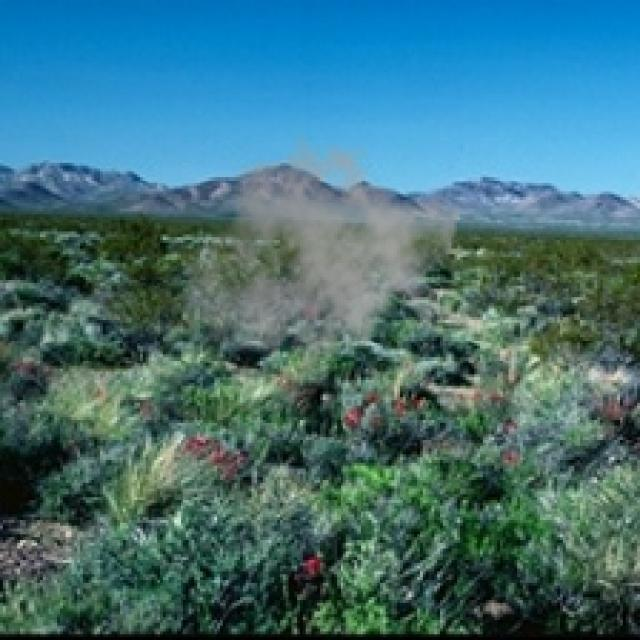Smoke: (180, 132, 463, 388)
